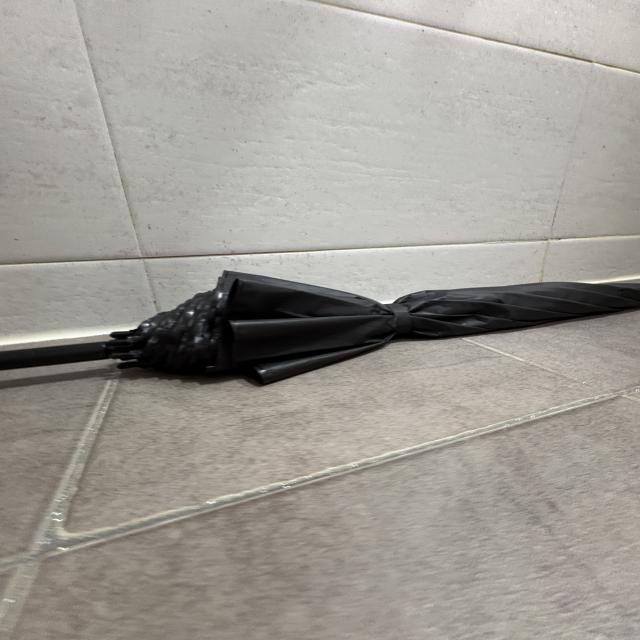umbrella: (2, 268, 640, 391)
